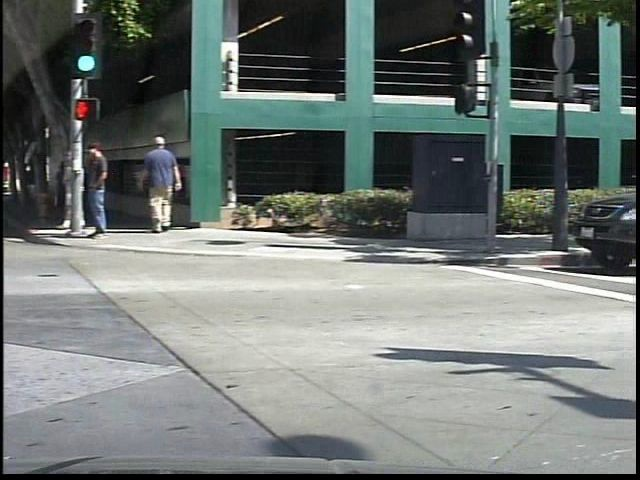person: (144, 135, 197, 235), (86, 136, 125, 245), (68, 144, 93, 232)
